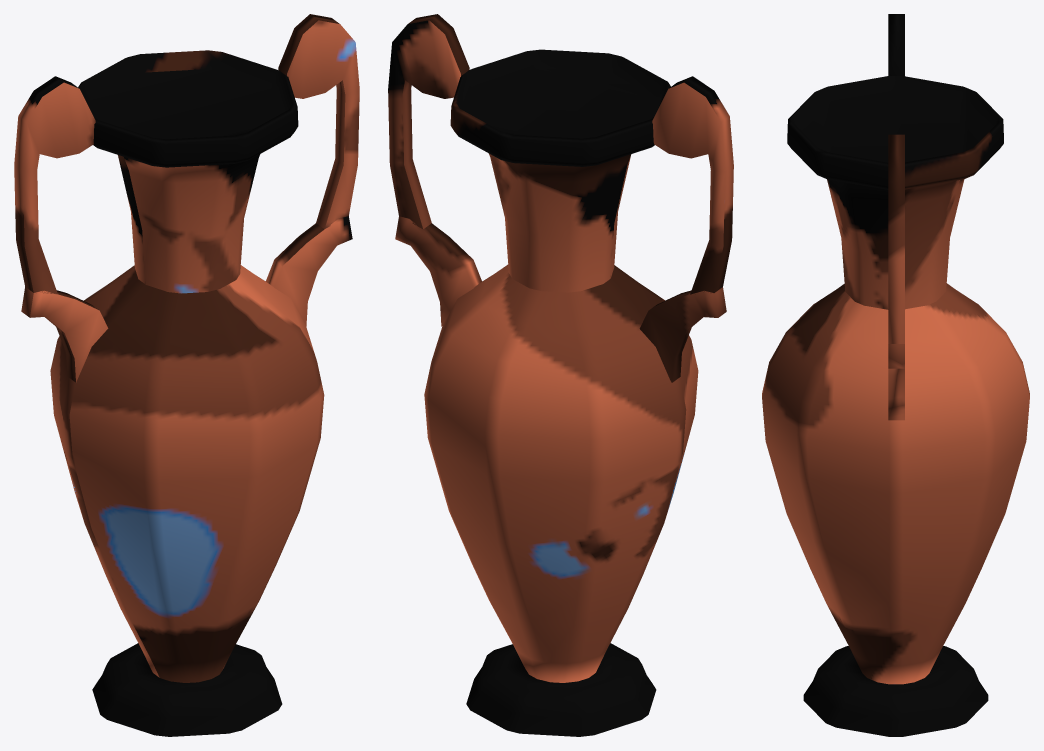
File: Pot3.fbx
3 views of the same model, side by side, from view 1: azimuth 30°, elevation 25°; view 2: azimuth 150°, elevation 25°; view 3: azimuth 270°, elevation 25° (orthographic). The views are drawn at different scales.
Visible parts, largest first — view 1: polySurface32, polySurface44, polySurface38, polySurface37; view 2: polySurface32, polySurface44, polySurface38, polySurface37; view 3: polySurface32, polySurface44, polySurface38, polySurface37.
Boxes of the visible parts, x1,y1,x2,y2 form: polySurface32: (50, 265, 324, 736); polySurface44: (78, 50, 298, 293); polySurface38: (14, 14, 359, 294); polySurface37: (21, 216, 352, 382); polySurface32: (424, 264, 698, 736); polySurface44: (450, 49, 670, 292); polySurface38: (388, 14, 733, 294); polySurface37: (395, 216, 726, 382); polySurface32: (762, 283, 1029, 736); polySurface44: (787, 76, 1003, 309); polySurface38: (888, 14, 904, 343); polySurface37: (888, 344, 904, 420).
Bounding box in the file's own units: 1.87 × 3.45 × 1.34.
